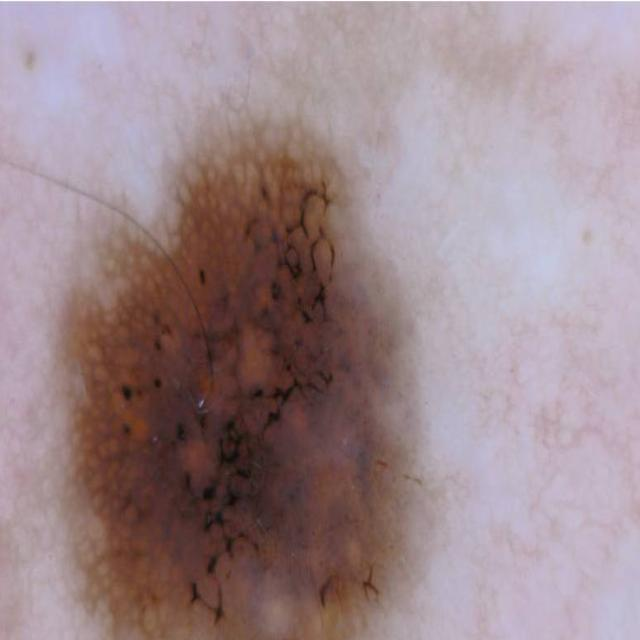Melanoma: (25, 97, 425, 640)
